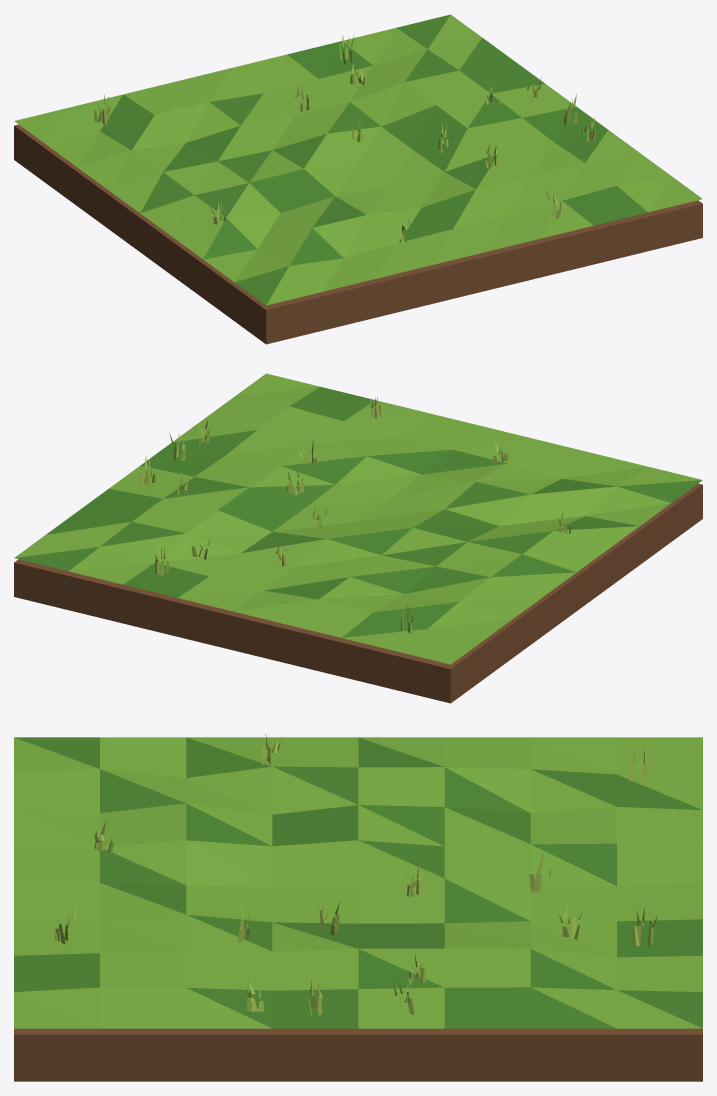
The model's file is suelo_cesped.glb.
3 renders of one model, top to bottom at view 1: azimuth 30°, elevation 25°; view 2: azimuth 150°, elevation 25°; view 3: azimuth 270°, elevation 25°, orthographic. The views are drawn at different scales.
Parts seen in each view (by area): view 1: suelo_cesped_hierba, suelo_cesped_hierba_osc, suelo_cesped_tierra, suelo_cesped_hierba_clara; view 2: suelo_cesped_hierba, suelo_cesped_hierba_osc, suelo_cesped_tierra, suelo_cesped_hierba_clara; view 3: suelo_cesped_hierba, suelo_cesped_hierba_osc, suelo_cesped_tierra, suelo_cesped_hierba_clara.
Part boxes in pixels (left/top/right/bottom): suelo_cesped_hierba: left=14, top=14, right=702, bottom=305; suelo_cesped_hierba_osc: left=100, top=14, right=647, bottom=305; suelo_cesped_tierra: left=14, top=124, right=702, bottom=344; suelo_cesped_hierba_clara: left=94, top=35, right=596, bottom=243; suelo_cesped_hierba: left=14, top=373, right=701, bottom=664; suelo_cesped_hierba_osc: left=14, top=387, right=702, bottom=637; suelo_cesped_tierra: left=14, top=483, right=702, bottom=703; suelo_cesped_hierba_clara: left=138, top=397, right=570, bottom=634; suelo_cesped_hierba: left=14, top=737, right=702, bottom=1028; suelo_cesped_hierba_osc: left=14, top=737, right=702, bottom=1028; suelo_cesped_tierra: left=14, top=1028, right=702, bottom=1081; suelo_cesped_hierba_clara: left=54, top=734, right=657, bottom=1016.
Bounding box in the file's own units: 4 × 0.5889 × 4.
